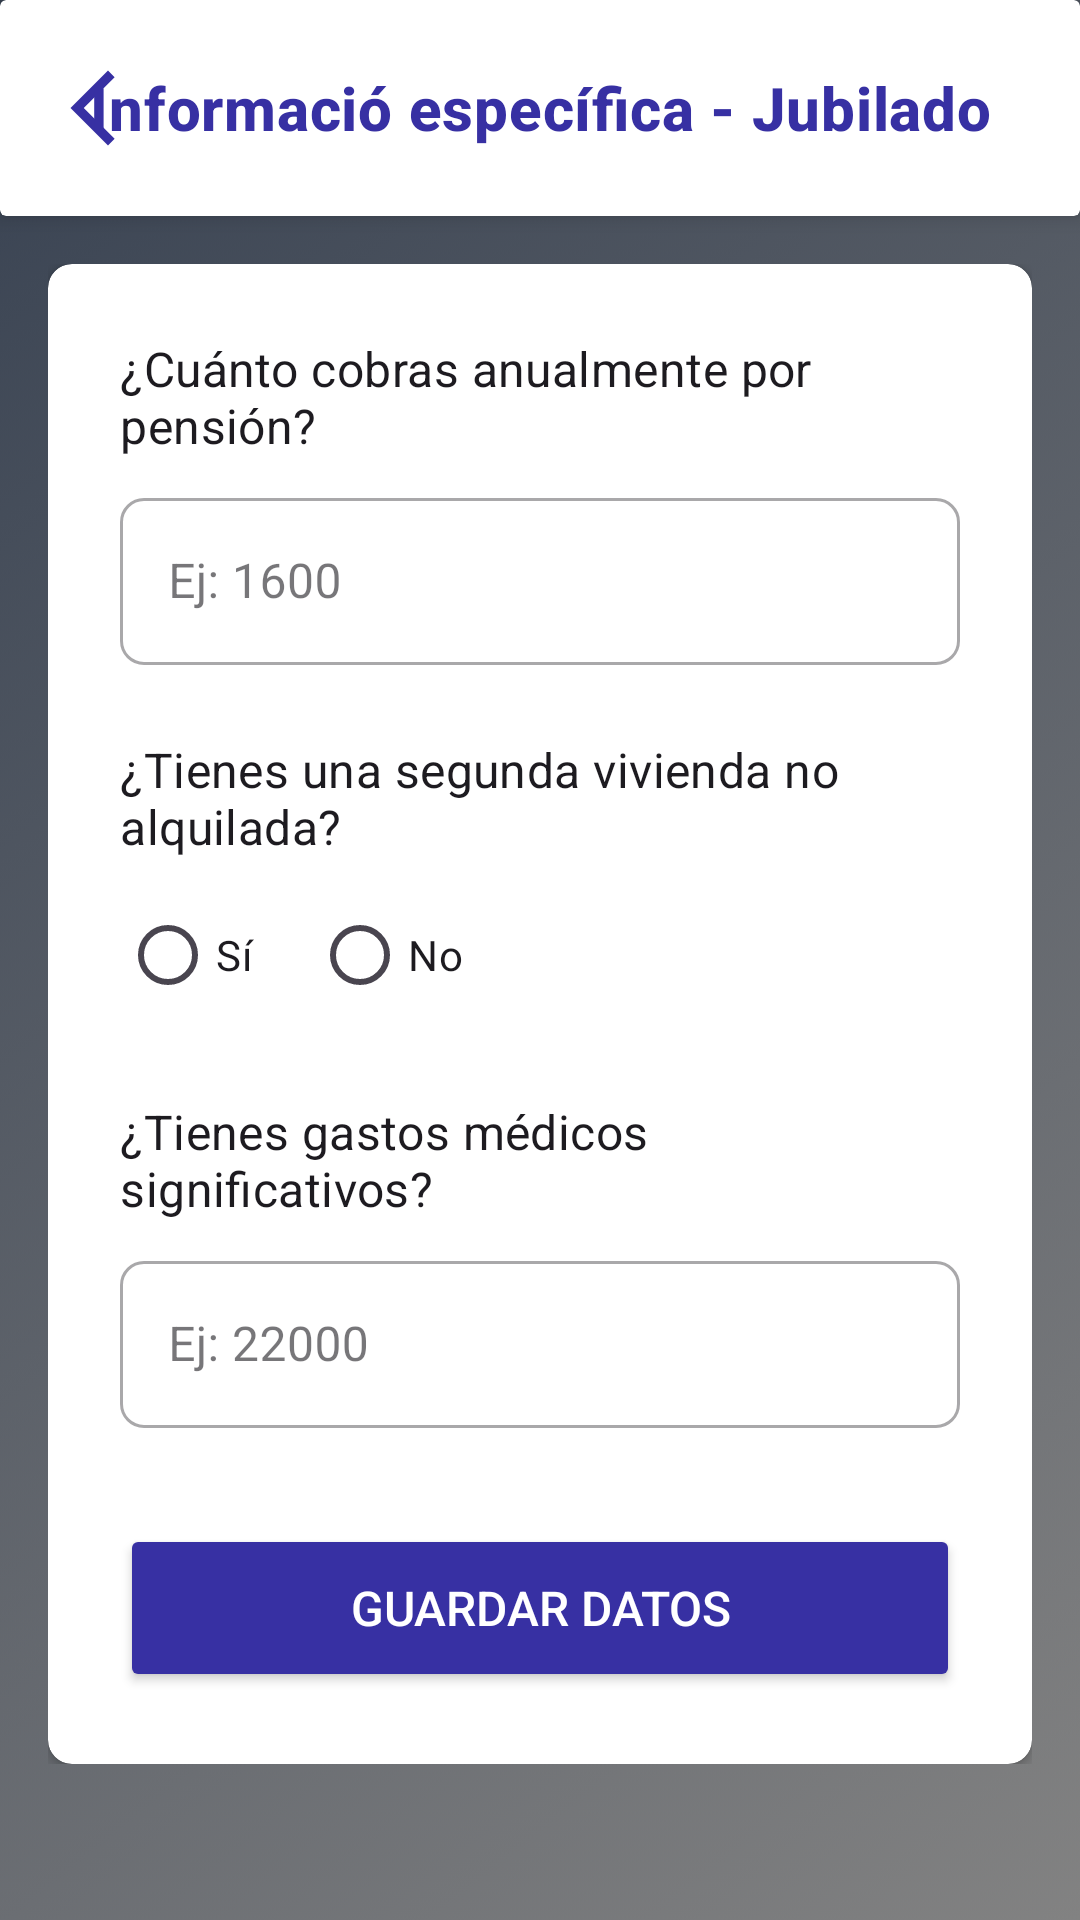

Icons on this 1080px×1920px Android screen, each with the point to tap as [x,y]:
Volver atrás: [104,108]
